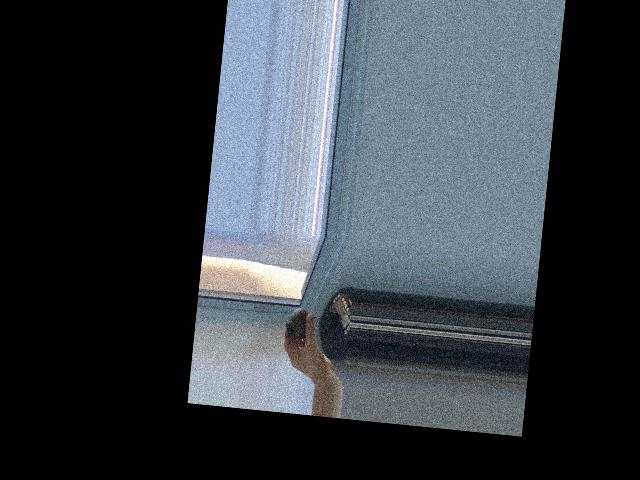beet: (284, 306, 318, 343)
